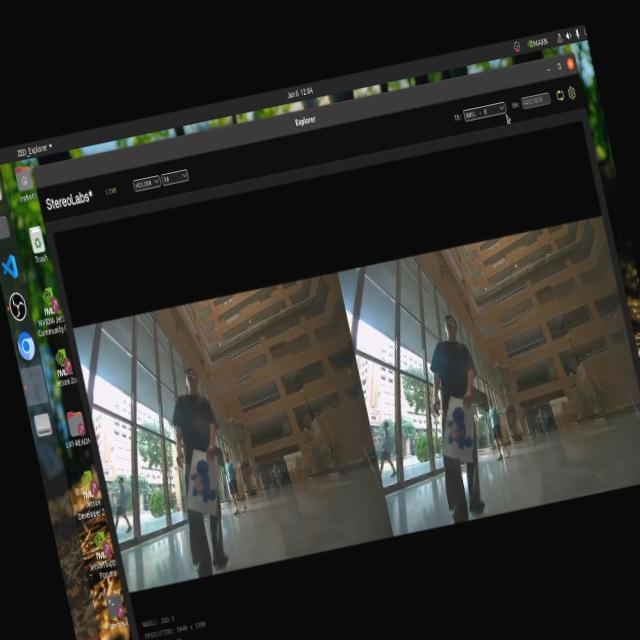blue: (441, 404, 477, 451), (182, 457, 216, 503)
